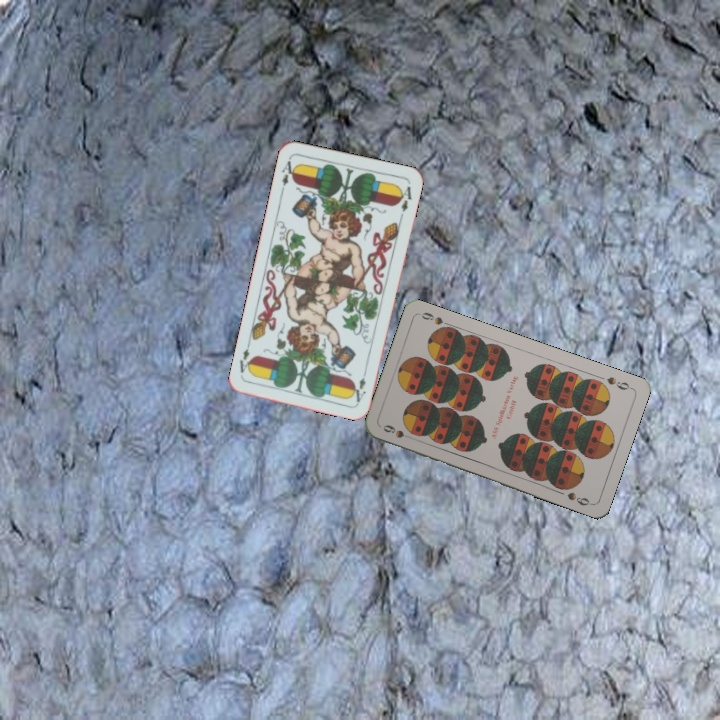EA: (277, 155, 299, 195), (352, 365, 369, 405)
S9: (603, 372, 635, 392), (379, 421, 407, 441)
